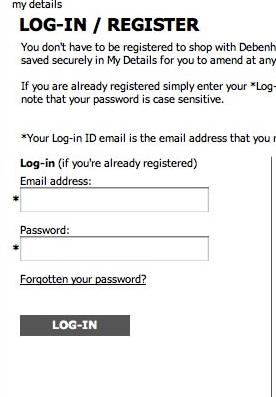button: (19, 314, 130, 337)
field: (17, 234, 210, 262), (18, 185, 209, 212)
field_with_label: (15, 225, 211, 265), (17, 176, 210, 214)
